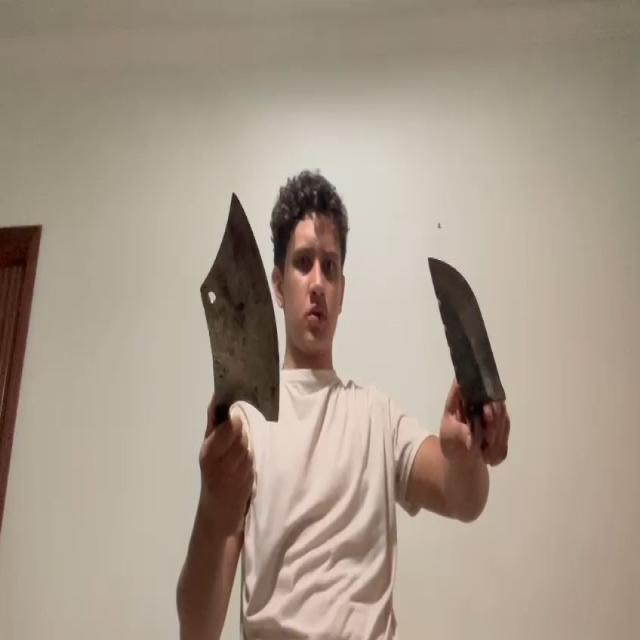knife: (198, 188, 281, 420), (428, 254, 506, 401)
